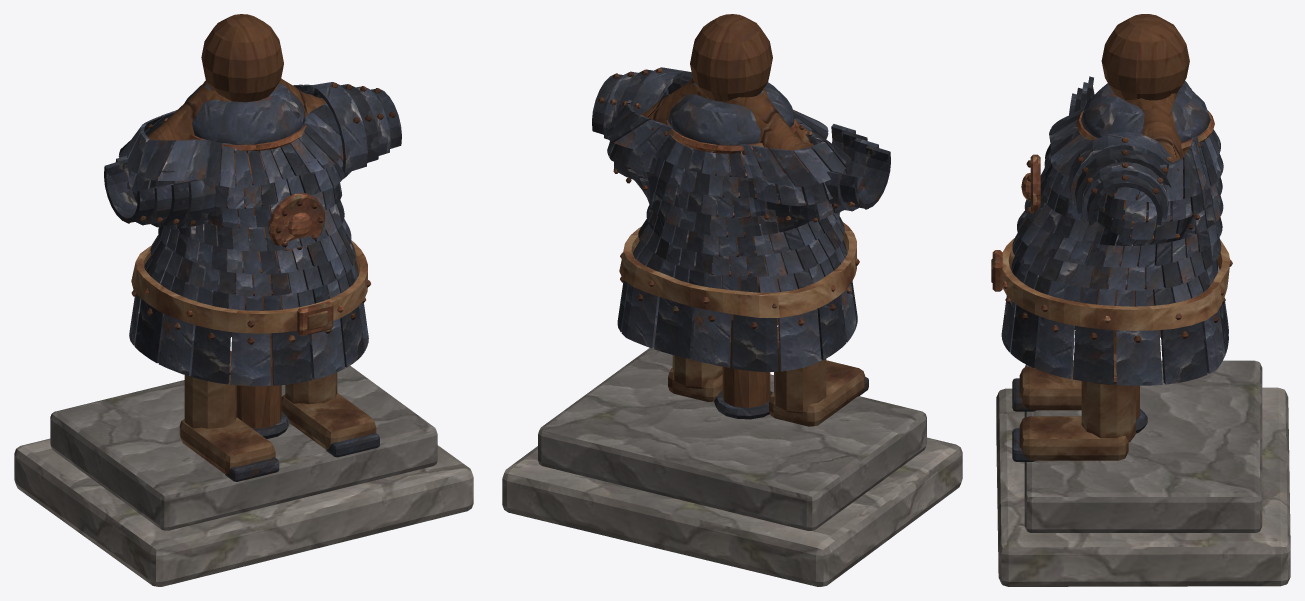
File: vo_armour_stand.glb
The picture shows the model from 3 angles, left to right: view 1: azimuth 30°, elevation 25°; view 2: azimuth 150°, elevation 25°; view 3: azimuth 270°, elevation 25°; orthographic projection. The views are drawn at different scales.
Parts seen in each view (by area): view 1: model; view 2: model; view 3: model.
Boxes of the visible parts, x1=… form: model: x1=14, y1=14, x2=473, y2=586; model: x1=502, y1=14, x2=962, y2=586; model: x1=991, y1=14, x2=1290, y2=586.
Bounding box in the file's own units: 0.7748 × 1.1 × 0.605.
11 materials, 11 textured.
